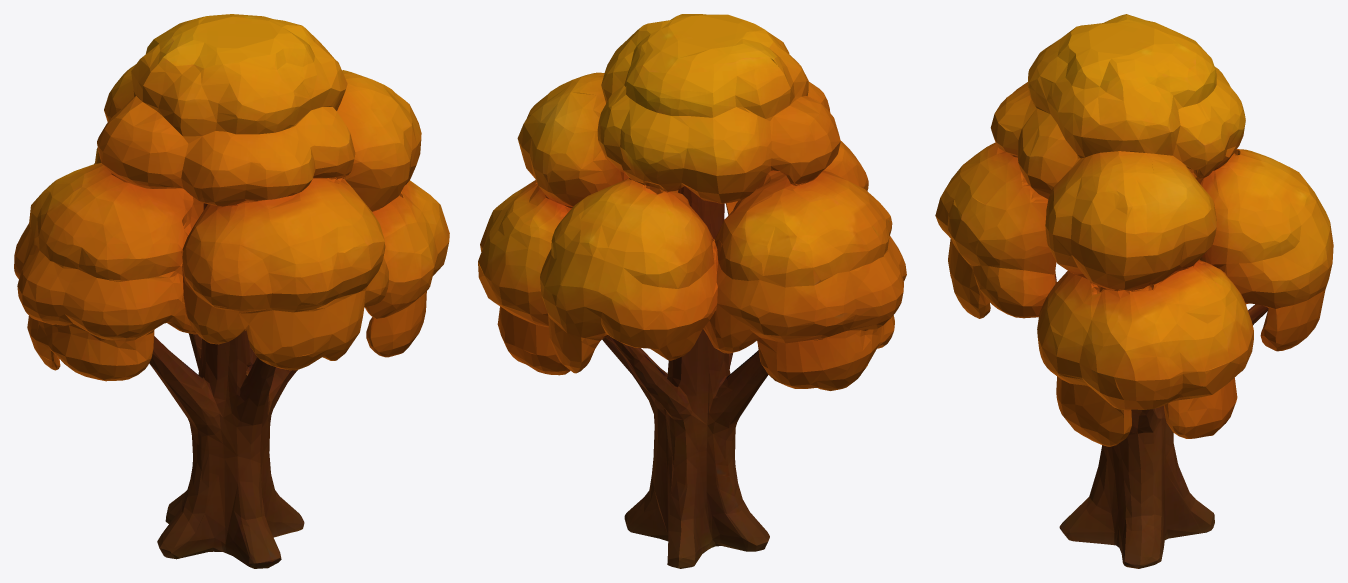
The model's file is orange_tree.glb.
The picture shows the model from 3 angles, left to right: view 1: azimuth 30°, elevation 25°; view 2: azimuth 150°, elevation 25°; view 3: azimuth 270°, elevation 25°; orthographic projection. The views are drawn at different scales.
Visible parts, largest first — view 1: geometry_0; view 2: geometry_0; view 3: geometry_0.
Part boxes in pixels (x1,y1,x2,y2): geometry_0: (14,14,449,568); geometry_0: (478,14,906,568); geometry_0: (935,14,1333,568).
Bounding box in the file's own units: 0.8483 × 0.9977 × 0.7223.
Materials: 1 (1 with a texture image).
